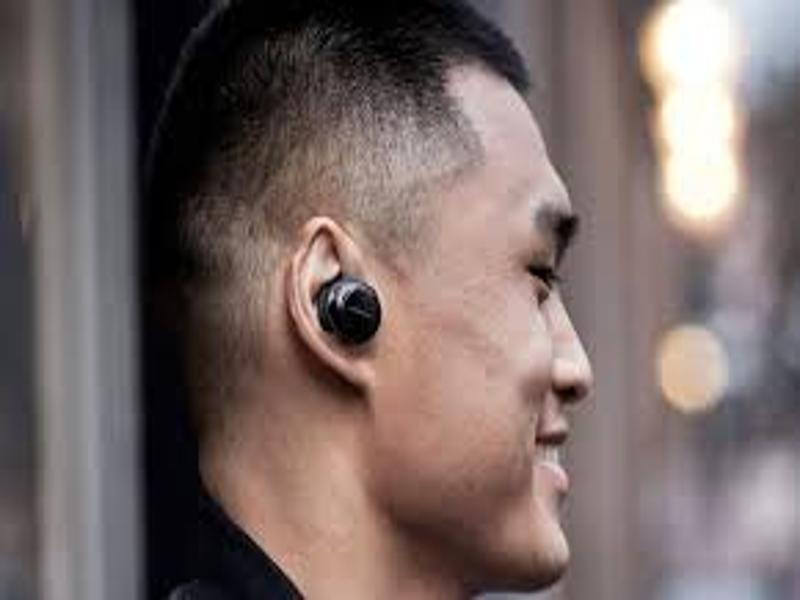headphone: (314, 277, 383, 344)
